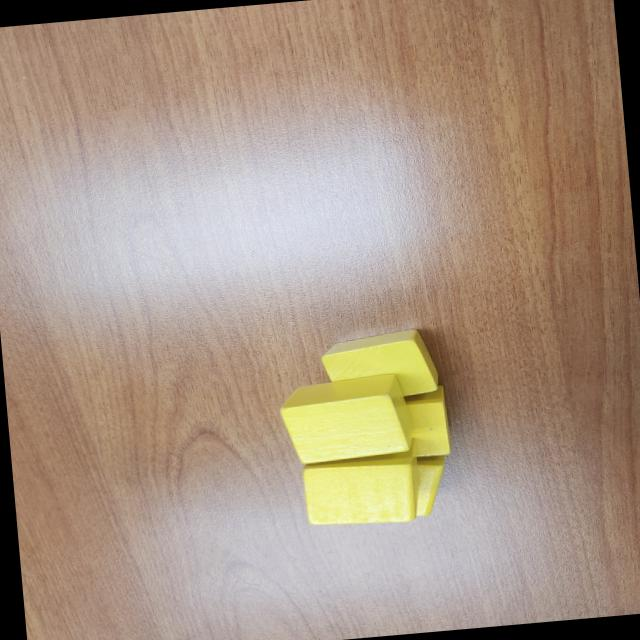yellow: (279, 371, 416, 467), (300, 436, 426, 530), (316, 326, 442, 404), (343, 384, 454, 464), (404, 458, 451, 518)
